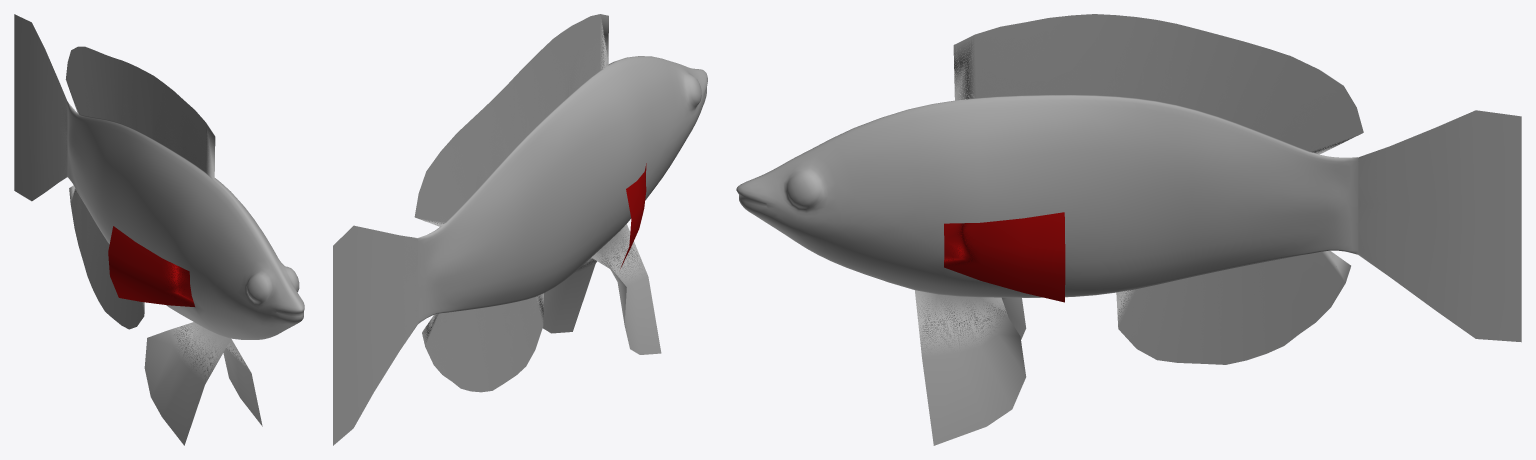
File: Labridae_D.fbx
The picture shows the model from 3 angles, left to right: view 1: azimuth 30°, elevation 25°; view 2: azimuth 150°, elevation 25°; view 3: azimuth 270°, elevation 25°; orthographic projection. The views are drawn at different scales.
Parts seen in each view (by area): view 1: Labridae_D_LOD0; view 2: Labridae_D_LOD0; view 3: Labridae_D_LOD0.
Boxes of the visible parts, x1,y1,x2,y2 form: Labridae_D_LOD0: [14, 14, 304, 445]; Labridae_D_LOD0: [333, 14, 707, 445]; Labridae_D_LOD0: [736, 14, 1521, 445].
Size of what is drawn, in the model's own units: 0.2259 by 0.5819 by 1.03.
